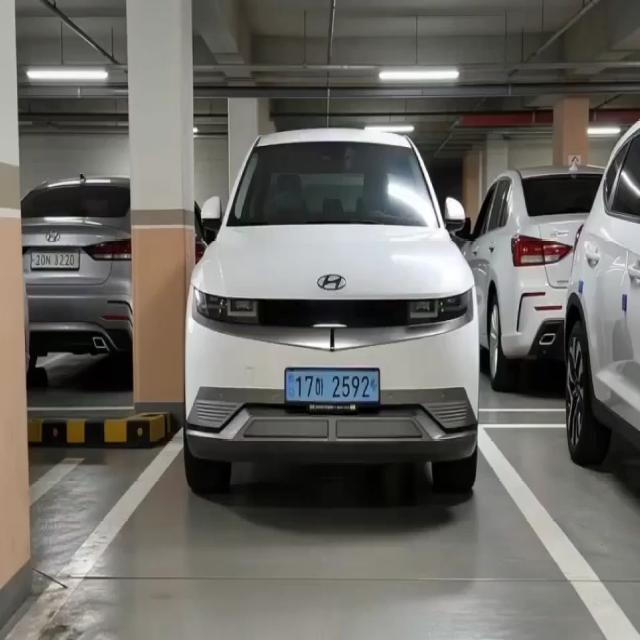car: (285, 369, 380, 405)
carev: (369, 370, 379, 401), (286, 370, 295, 404)
